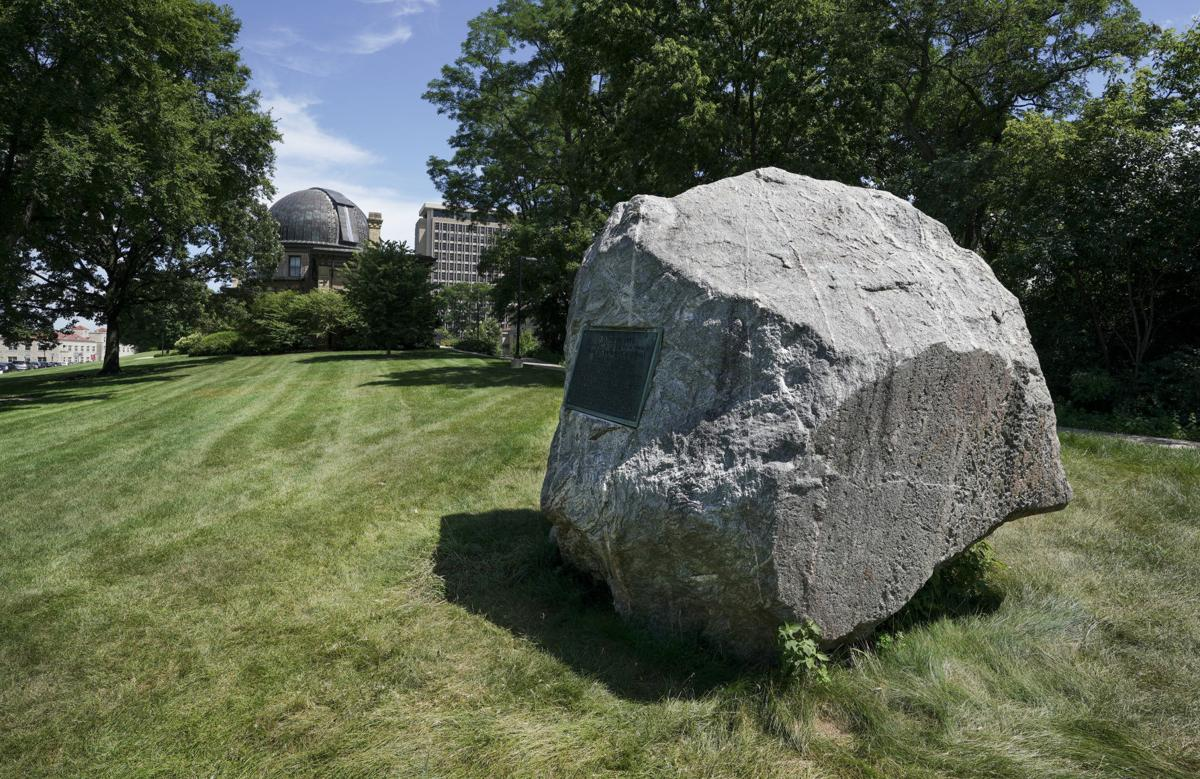grass: (18, 353, 544, 770), (980, 439, 1199, 765), (548, 635, 973, 774)
rock: (535, 162, 1080, 672)
